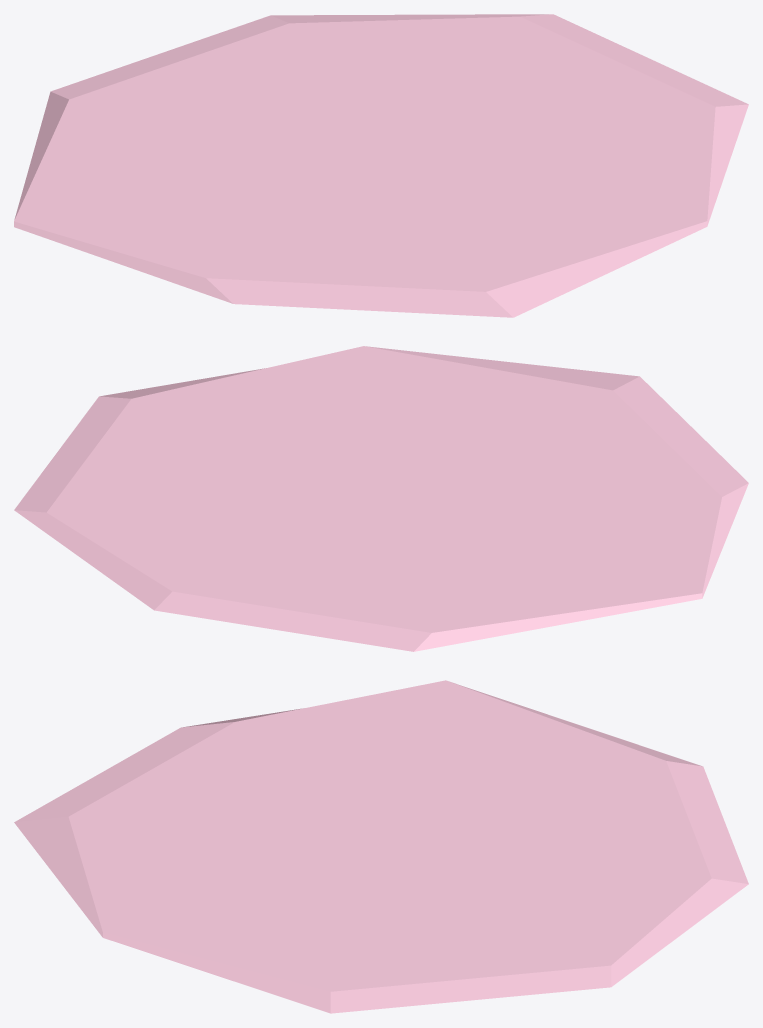
The model's file is roundRug.FBX.
The picture shows the model from 3 angles, top to bottom: view 1: azimuth 30°, elevation 25°; view 2: azimuth 150°, elevation 25°; view 3: azimuth 270°, elevation 25°; orthographic projection. The views are drawn at different scales.
Visible parts, largest first — view 1: Circle003; view 2: Circle003; view 3: Circle003.
Boxes of the visible parts, <box> form: Circle003: <box>14,14,748,317</box>; Circle003: <box>14,346,748,651</box>; Circle003: <box>14,680,748,1013</box>.
Size of the model in its own units: 124 by 1 by 117.
